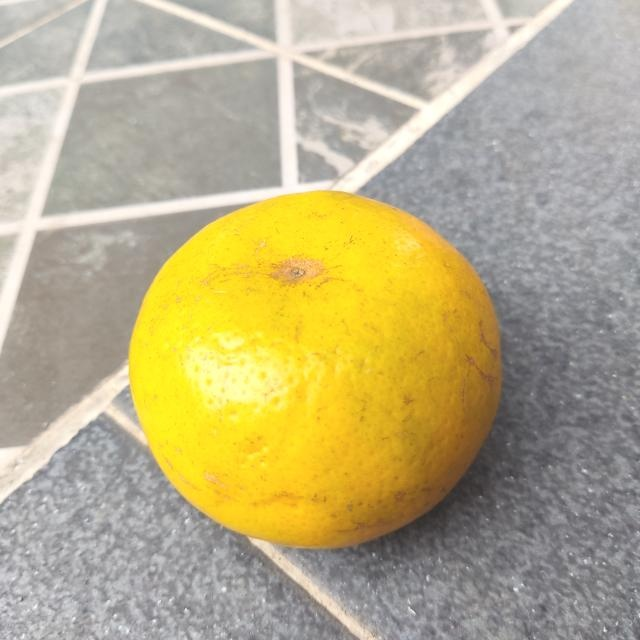agrume: (126, 188, 506, 550)
